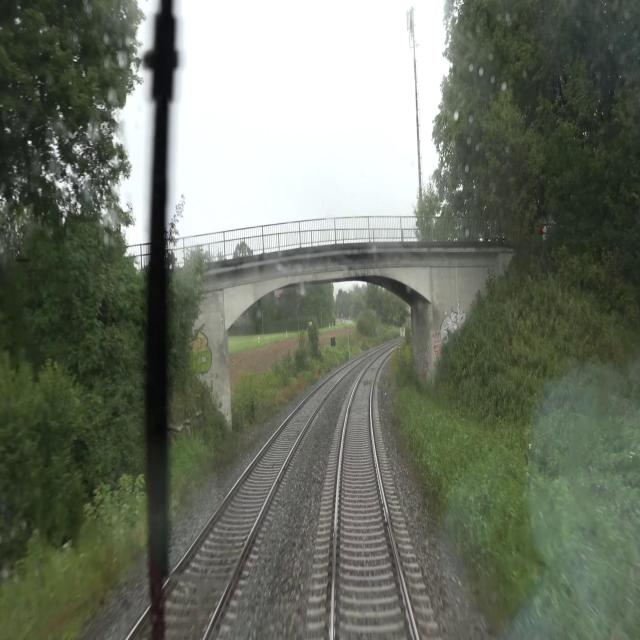rail-track: (172, 367, 348, 639), (335, 356, 414, 639)
